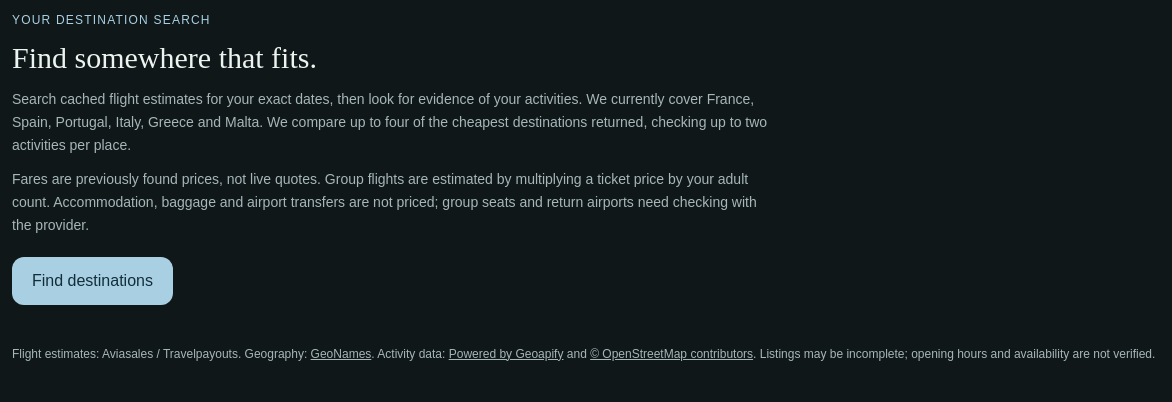
Test: handles a broken response with a recoverable message
Click the button "Find destinations".
click(92, 280)  # box [12,256,173,304]
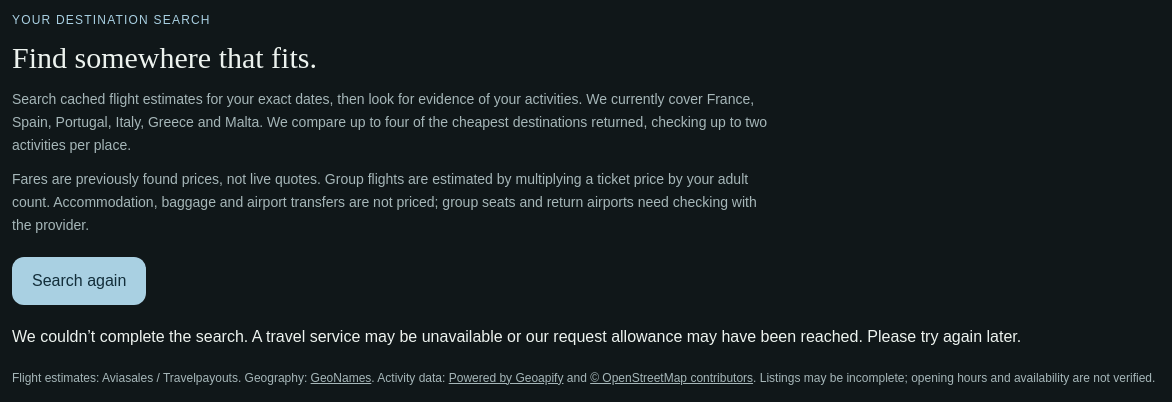
Expected: the button "Search again" is enabled, [12,256,146,304]
Now the message shows "couldn’t complete the search", box [12,328,1021,344]
